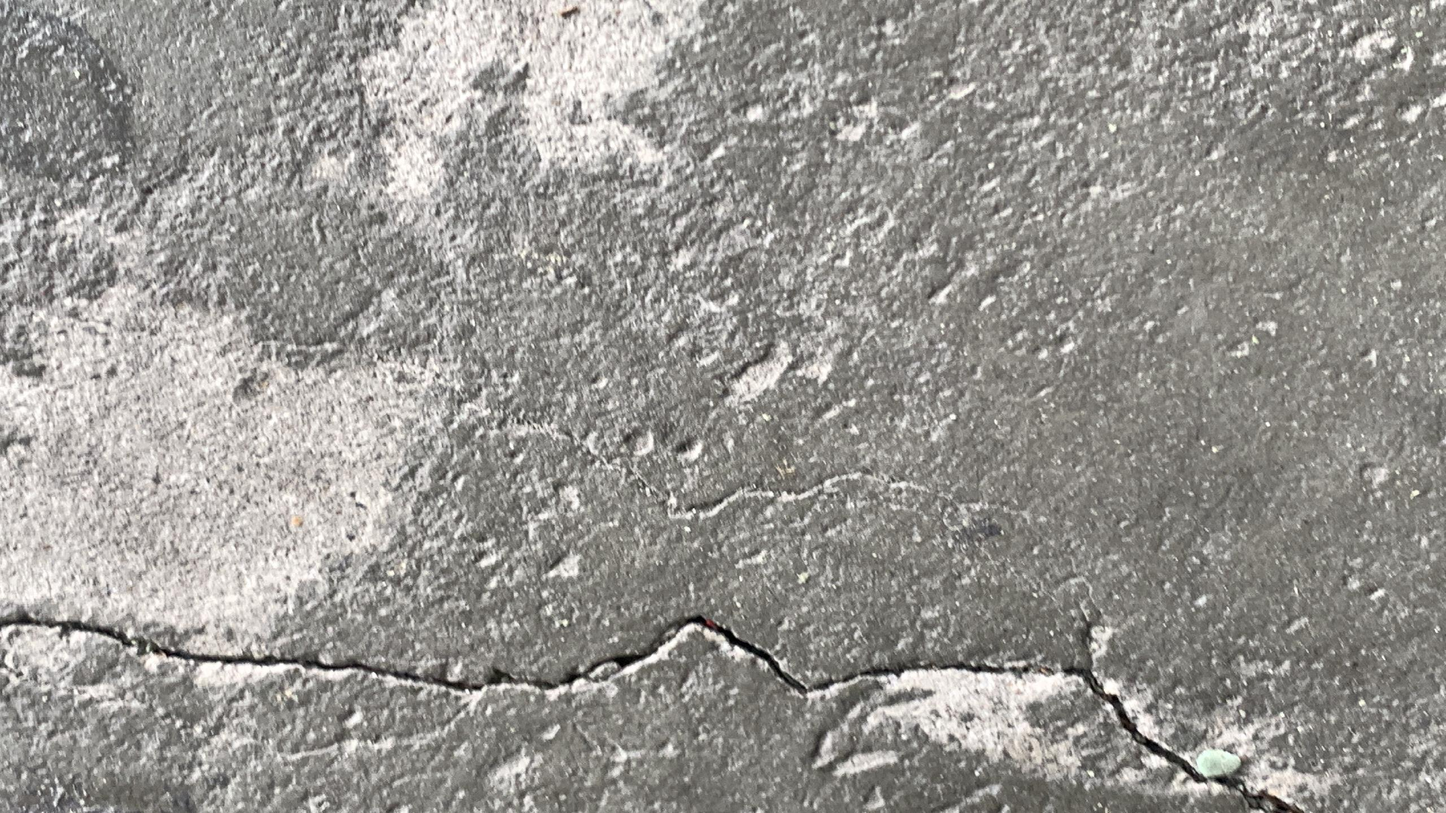crack: (0, 613, 1311, 810)
